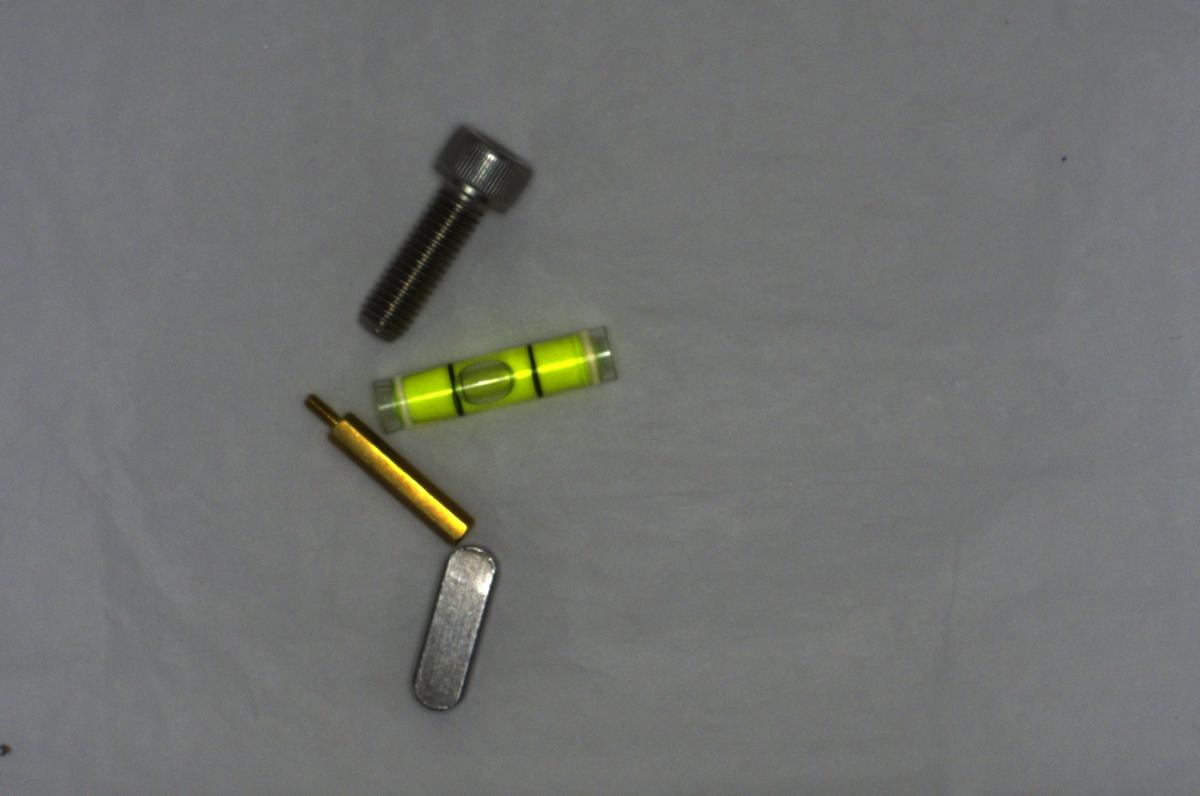Hexagon pillar: (294, 389, 477, 546)
Hexagon screw: (347, 118, 535, 341)
Horizontal bubble: (365, 321, 622, 429)
Keybar: (407, 539, 497, 716)
